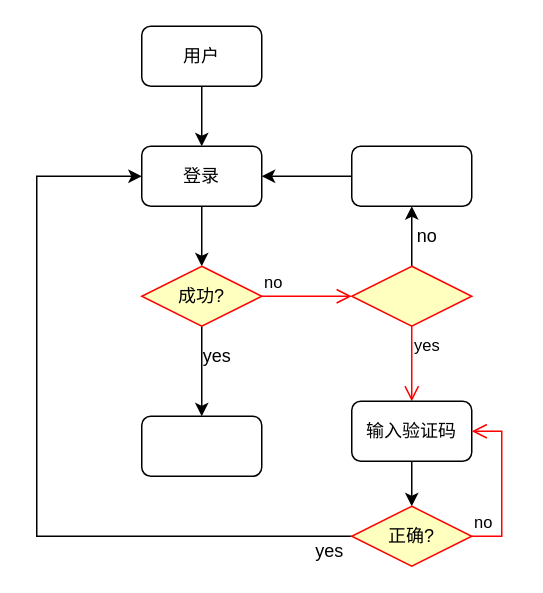
Some shapes in this 543 by 593 pixel diagram are drawn without their labels. Each missing label, with the box of its shape:
注册: (350, 145, 472, 206)
用户存在?: (350, 265, 472, 326)
首页: (140, 415, 262, 476)
